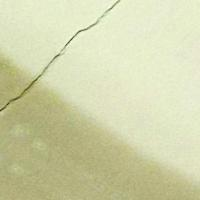crack: (2, 1, 141, 127)
